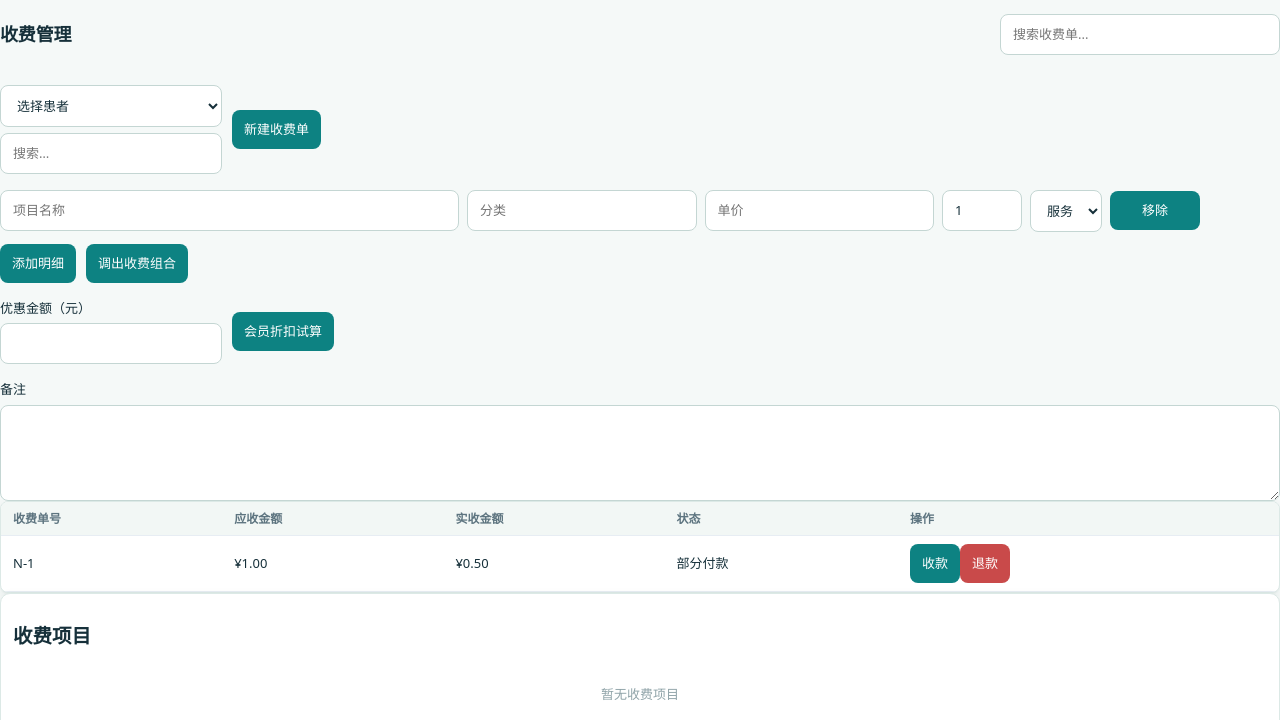
Scenario: ChargesPage › pays with a leaf method from the configured pay tree
The image size is (1280, 720).
Expected: the text "N-1" is shown, [1, 536, 222, 592]
Click the button "收款": (935, 564) [910, 544, 960, 583]
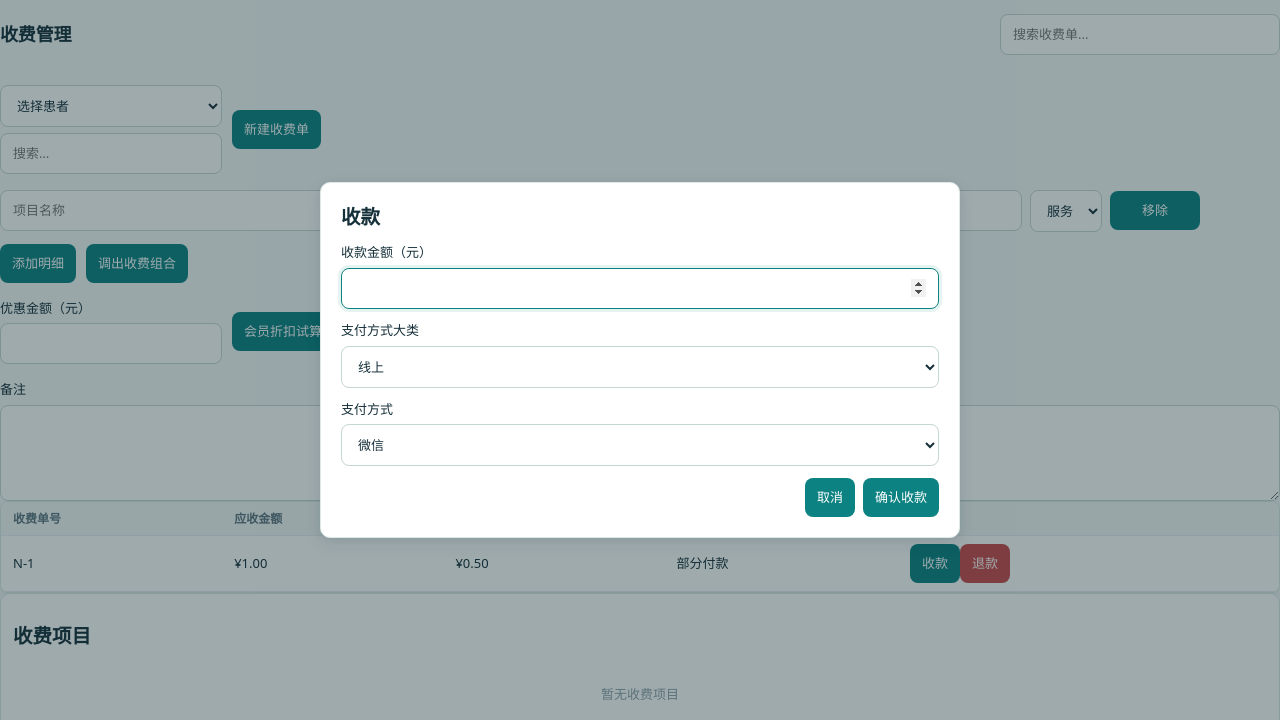
In the number field labelled "收款金额（元）": (640, 288) [341, 268, 939, 309], type "50"
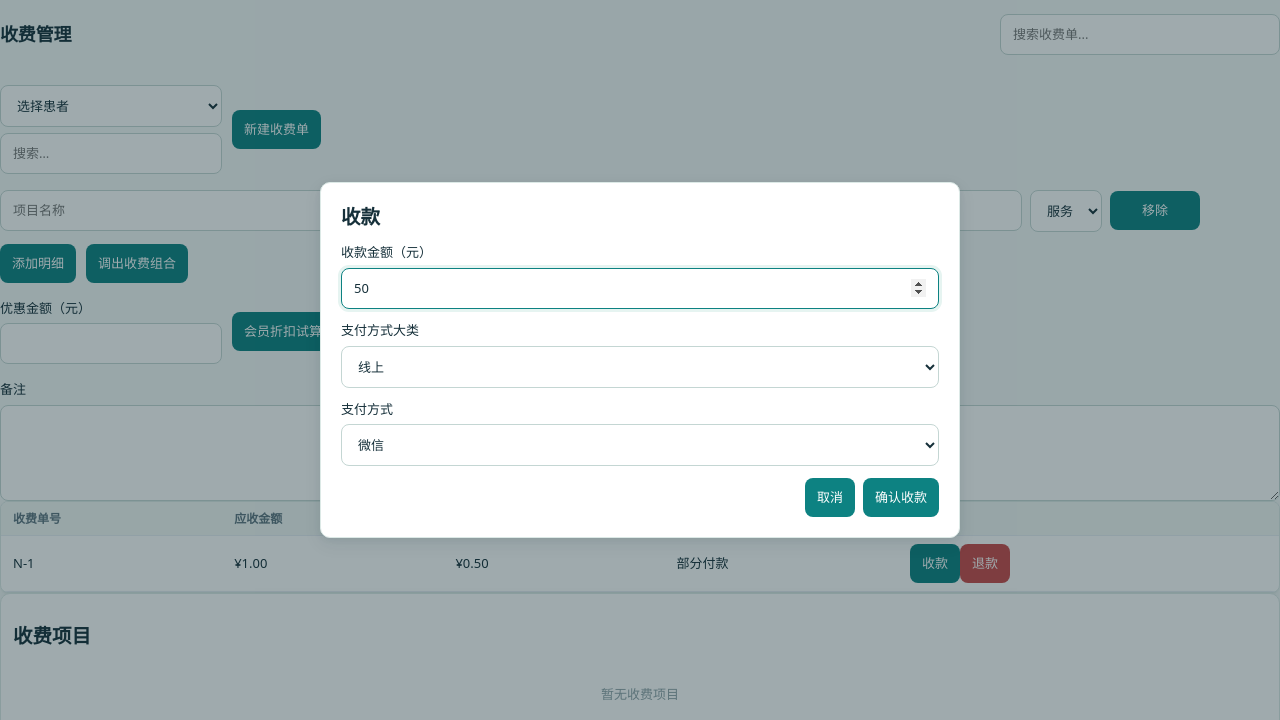
Click the button "确认收款": (901, 498) [863, 478, 939, 517]
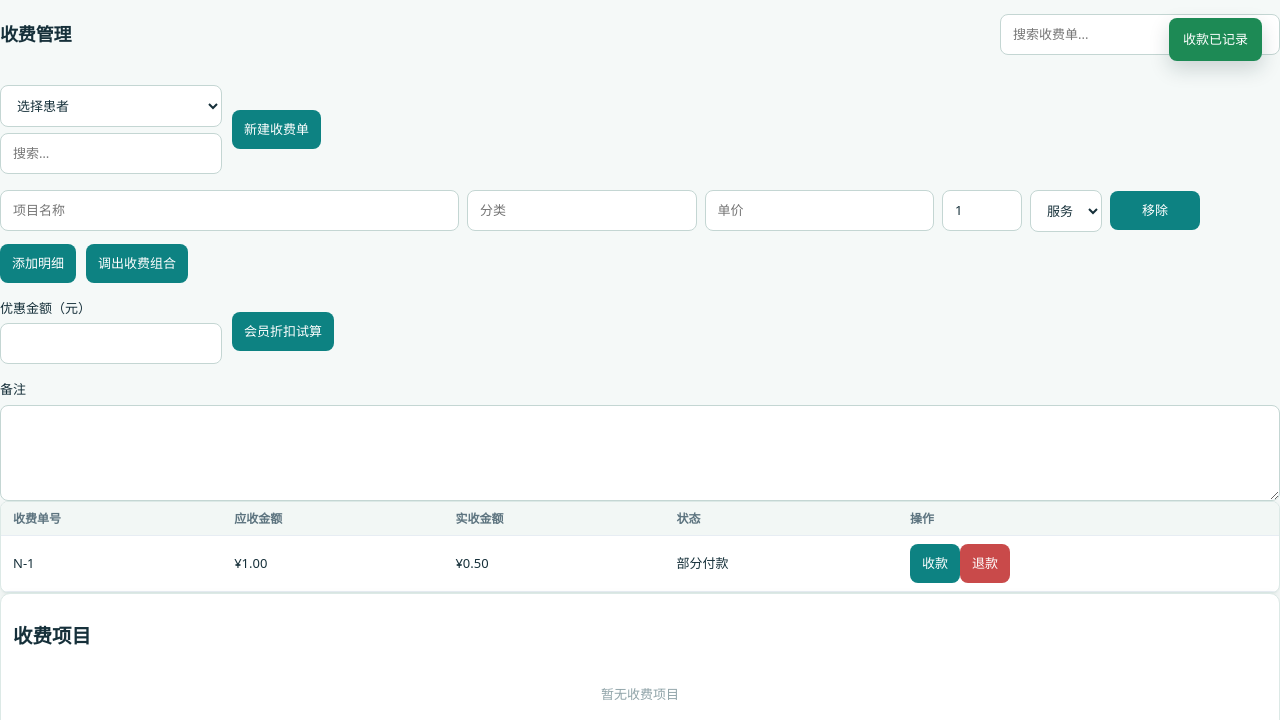
Expected: the text "收款已记录" is shown, [1169, 18, 1262, 61]
